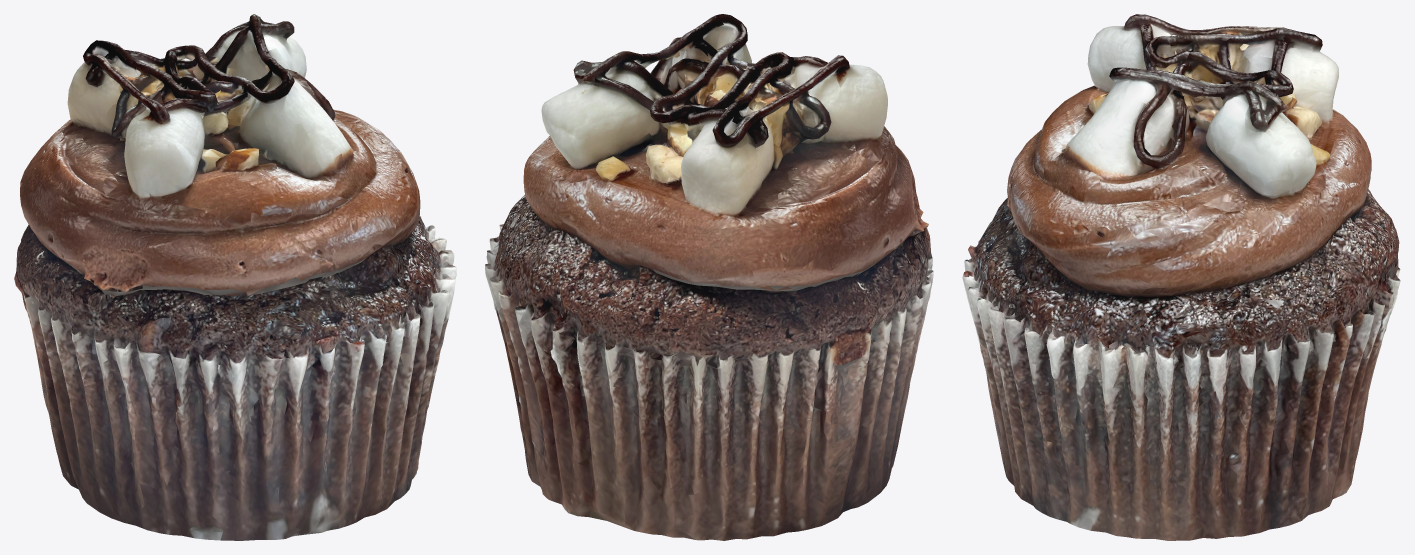
Rendered from Chocolate Cupcake.glb.
3 views of the same model, side by side, from view 1: azimuth 30°, elevation 25°; view 2: azimuth 150°, elevation 25°; view 3: azimuth 270°, elevation 25° (orthographic). The views are drawn at different scales.
Parts seen in each view (by area): view 1: Chocolate Cupcake; view 2: Chocolate Cupcake; view 3: Chocolate Cupcake.
Boxes of the visible parts, left/top/right/bottom form: Chocolate Cupcake: left=14, top=14, right=456, bottom=540; Chocolate Cupcake: left=485, top=14, right=933, bottom=540; Chocolate Cupcake: left=962, top=14, right=1400, bottom=540.
Bounding box in the file's own units: 0.0738 × 0.0769 × 0.0745.
Materials: 3 (3 with a texture image).
